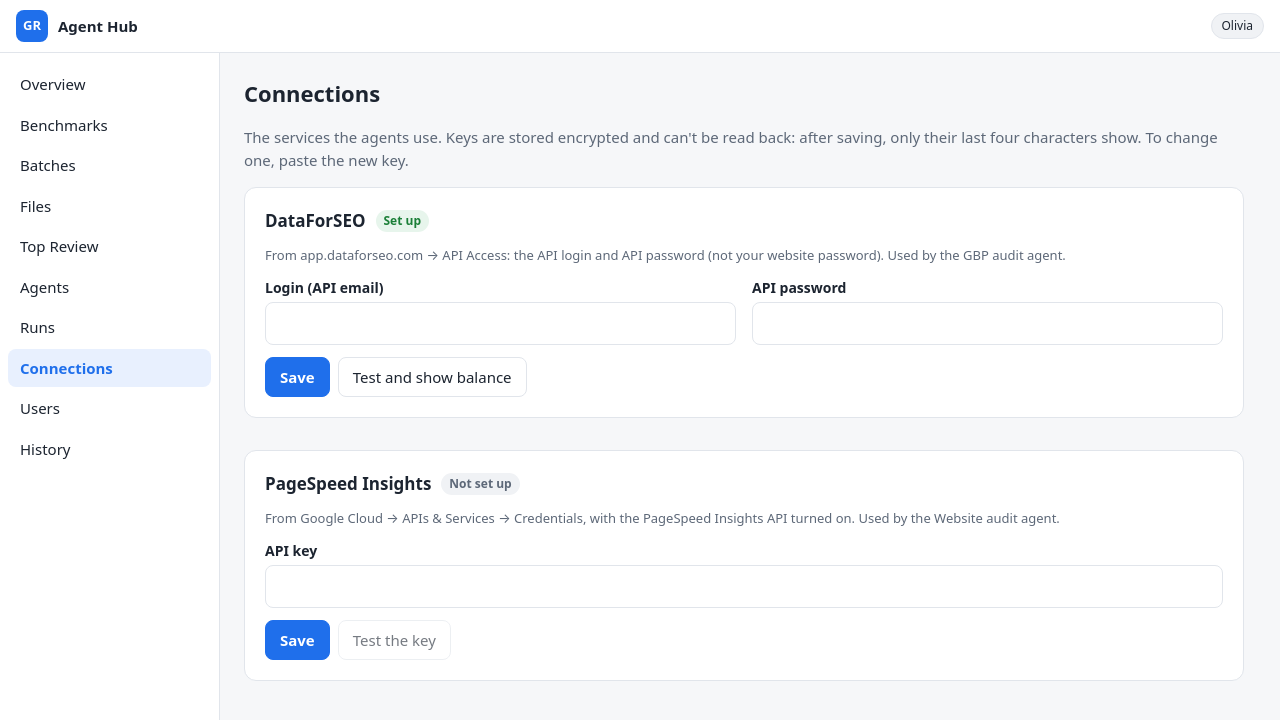
the Test result is shown
Click the button "Test and show balance" at (432, 377), box [338,356,526,397]
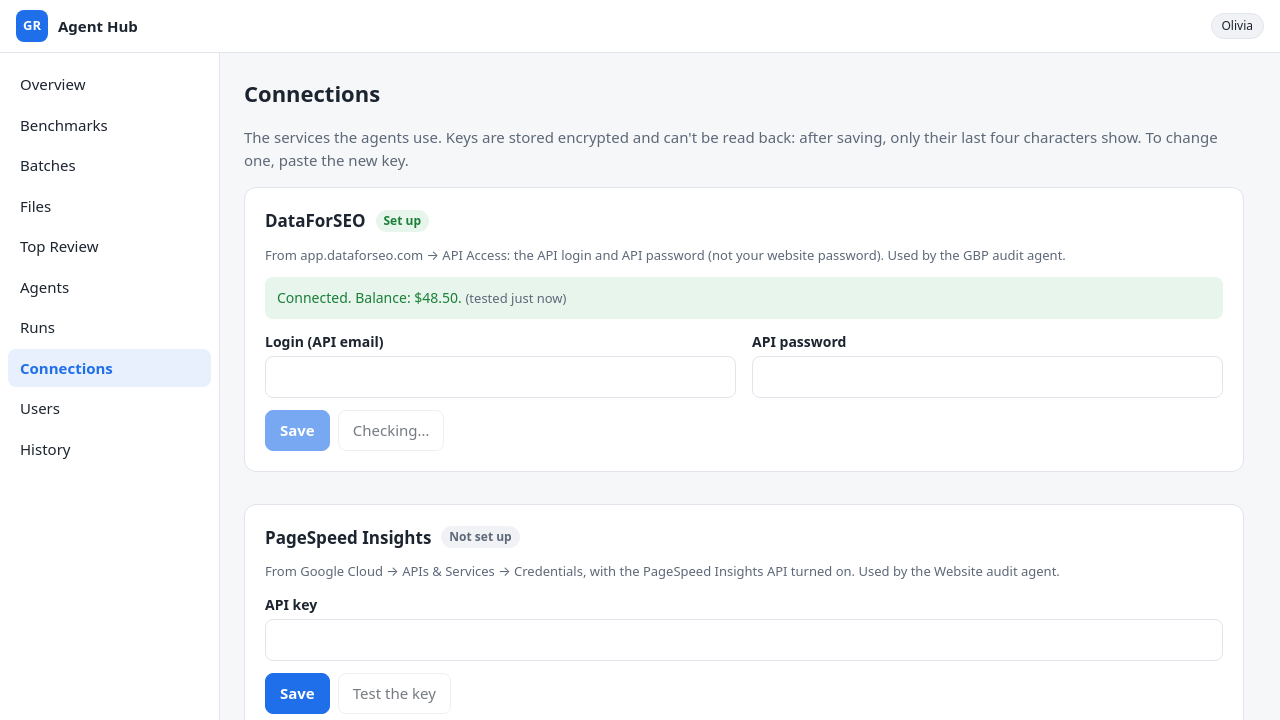
Result: the text "Connected. Balance: $48.50." is shown at [277,288,462,307]
